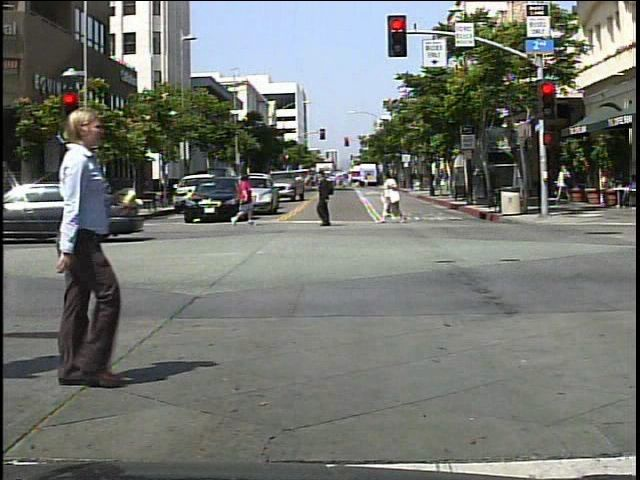person: (26, 90, 149, 401), (312, 157, 349, 232), (377, 163, 408, 227), (228, 168, 260, 227), (555, 160, 575, 208)
